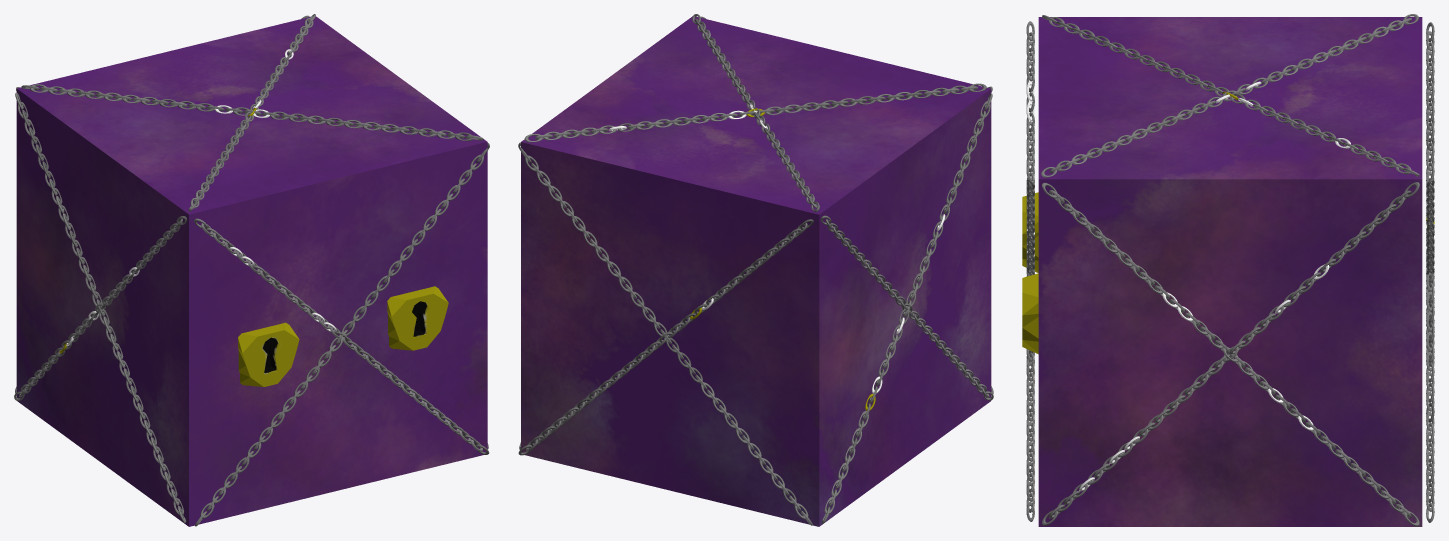
File: sealedBox.obj
The picture shows the model from 3 angles, left to right: view 1: azimuth 30°, elevation 25°; view 2: azimuth 150°, elevation 25°; view 3: azimuth 270°, elevation 25°; orthographic projection. The views are drawn at different scales.
Parts seen in each view (by area): view 1: sealedBox; view 2: sealedBox; view 3: sealedBox.
Boxes of the visible parts, bbox=[...] form: sealedBox: bbox=[14, 14, 489, 526]; sealedBox: bbox=[518, 14, 993, 526]; sealedBox: bbox=[1022, 14, 1434, 526].
Bounding box in the file's own units: 74.58 × 73.29 × 77.34.
1 material, 1 textured.
